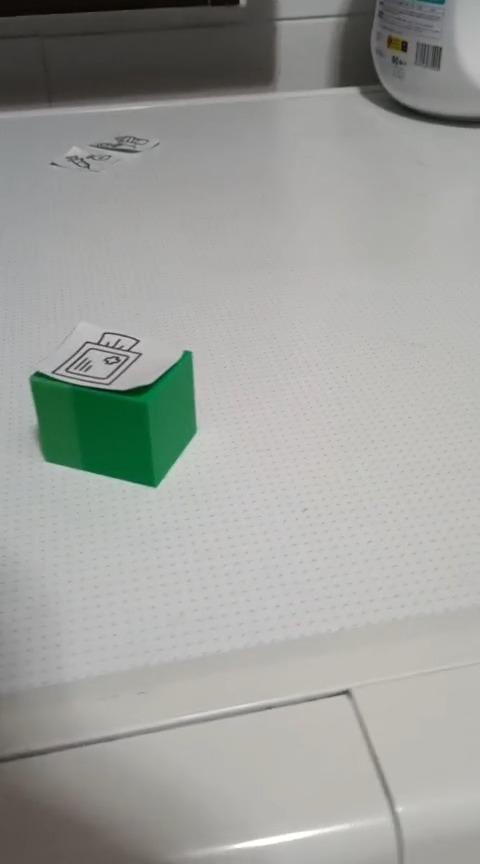Gauze: (28, 320, 197, 488), (368, 0, 479, 121)
